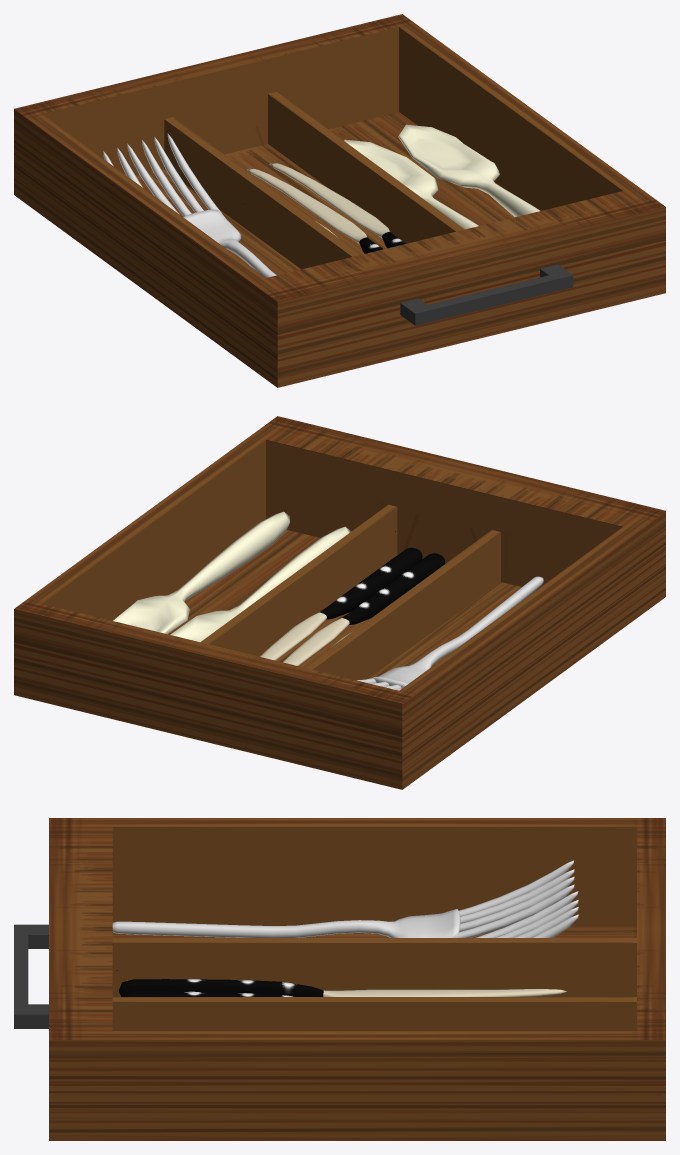
The model's file is Silver ware.glb.
3 renders of one model, top to bottom at view 1: azimuth 30°, elevation 25°; view 2: azimuth 150°, elevation 25°; view 3: azimuth 270°, elevation 25°, orthographic. The views are drawn at different scales.
Parts seen in each view (by area): view 1: Cube.003, Cube.012, Cube.008, Cube.001, Cube.011, Cube.007, Cube.006; view 2: Cube.003, Cube.012, Cube.007, Cube.006, Cube.011, Cube.008; view 3: Cube.003, Cube.017, Cube.004, Cube.001, Cube.008, Cube.005.
Boxes of the visible parts, <box> form: Cube.003: <box>14,14,665,387</box>; Cube.012: <box>398,124,540,217</box>; Cube.008: <box>127,133,276,277</box>; Cube.001: <box>400,264,573,325</box>; Cube.011: <box>344,139,478,229</box>; Cube.007: <box>269,163,405,248</box>; Cube.006: <box>247,168,382,253</box>; Cube.003: <box>14,416,665,789</box>; Cube.012: <box>113,511,289,633</box>; Cube.007: <box>260,547,422,660</box>; Cube.006: <box>283,553,445,665</box>; Cube.011: <box>170,526,351,641</box>; Cube.008: <box>357,576,543,690</box>; Cube.003: <box>49,818,665,1140</box>; Cube.017: <box>112,860,574,937</box>; Cube.004: <box>119,979,566,996</box>; Cube.001: <box>14,924,48,1028</box>; Cube.008: <box>475,891,578,937</box>; Cube.005: <box>121,991,294,996</box>.
Bounding box in the file's own units: 0.3565 × 0.0756 × 0.4428.
Materials: 6 (2 with a texture image).
